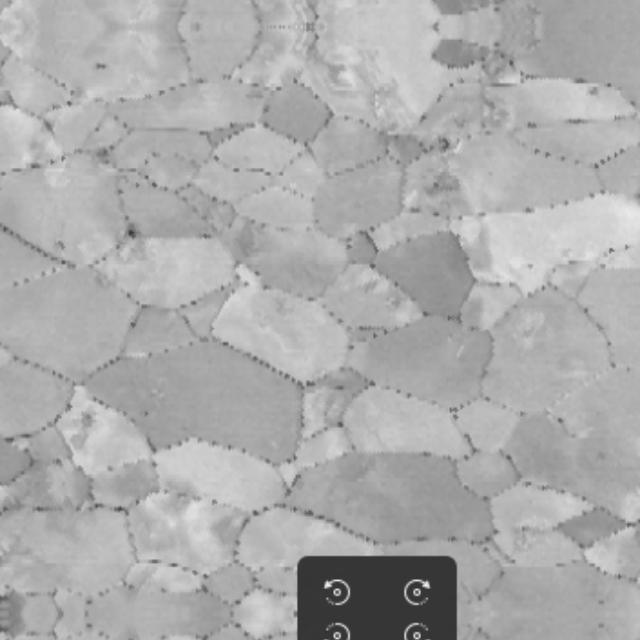good_void: (64, 405, 101, 445), (121, 219, 140, 250), (433, 130, 456, 155), (53, 233, 68, 255), (94, 56, 111, 73)
